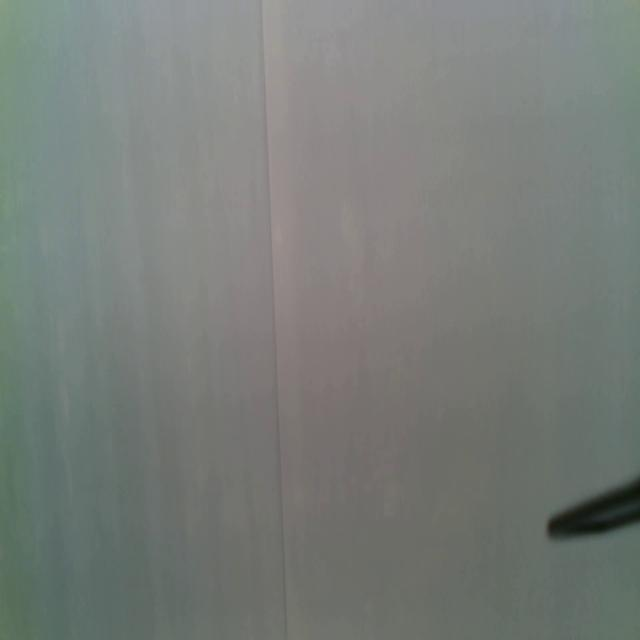crease: (260, 1, 290, 640)
